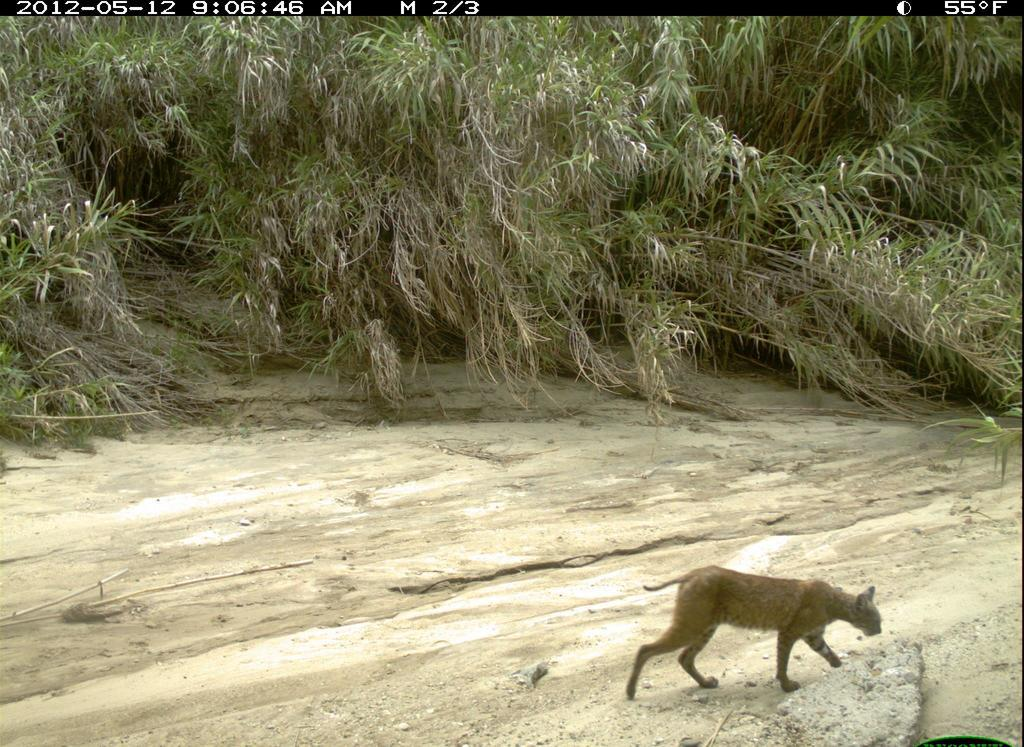bobcat: (623, 550, 889, 708)
